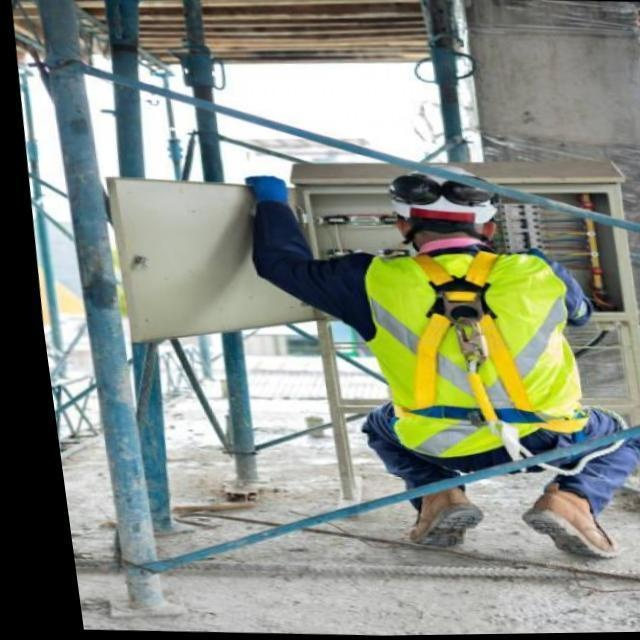Arnes_seguridad: (380, 239, 586, 444)
